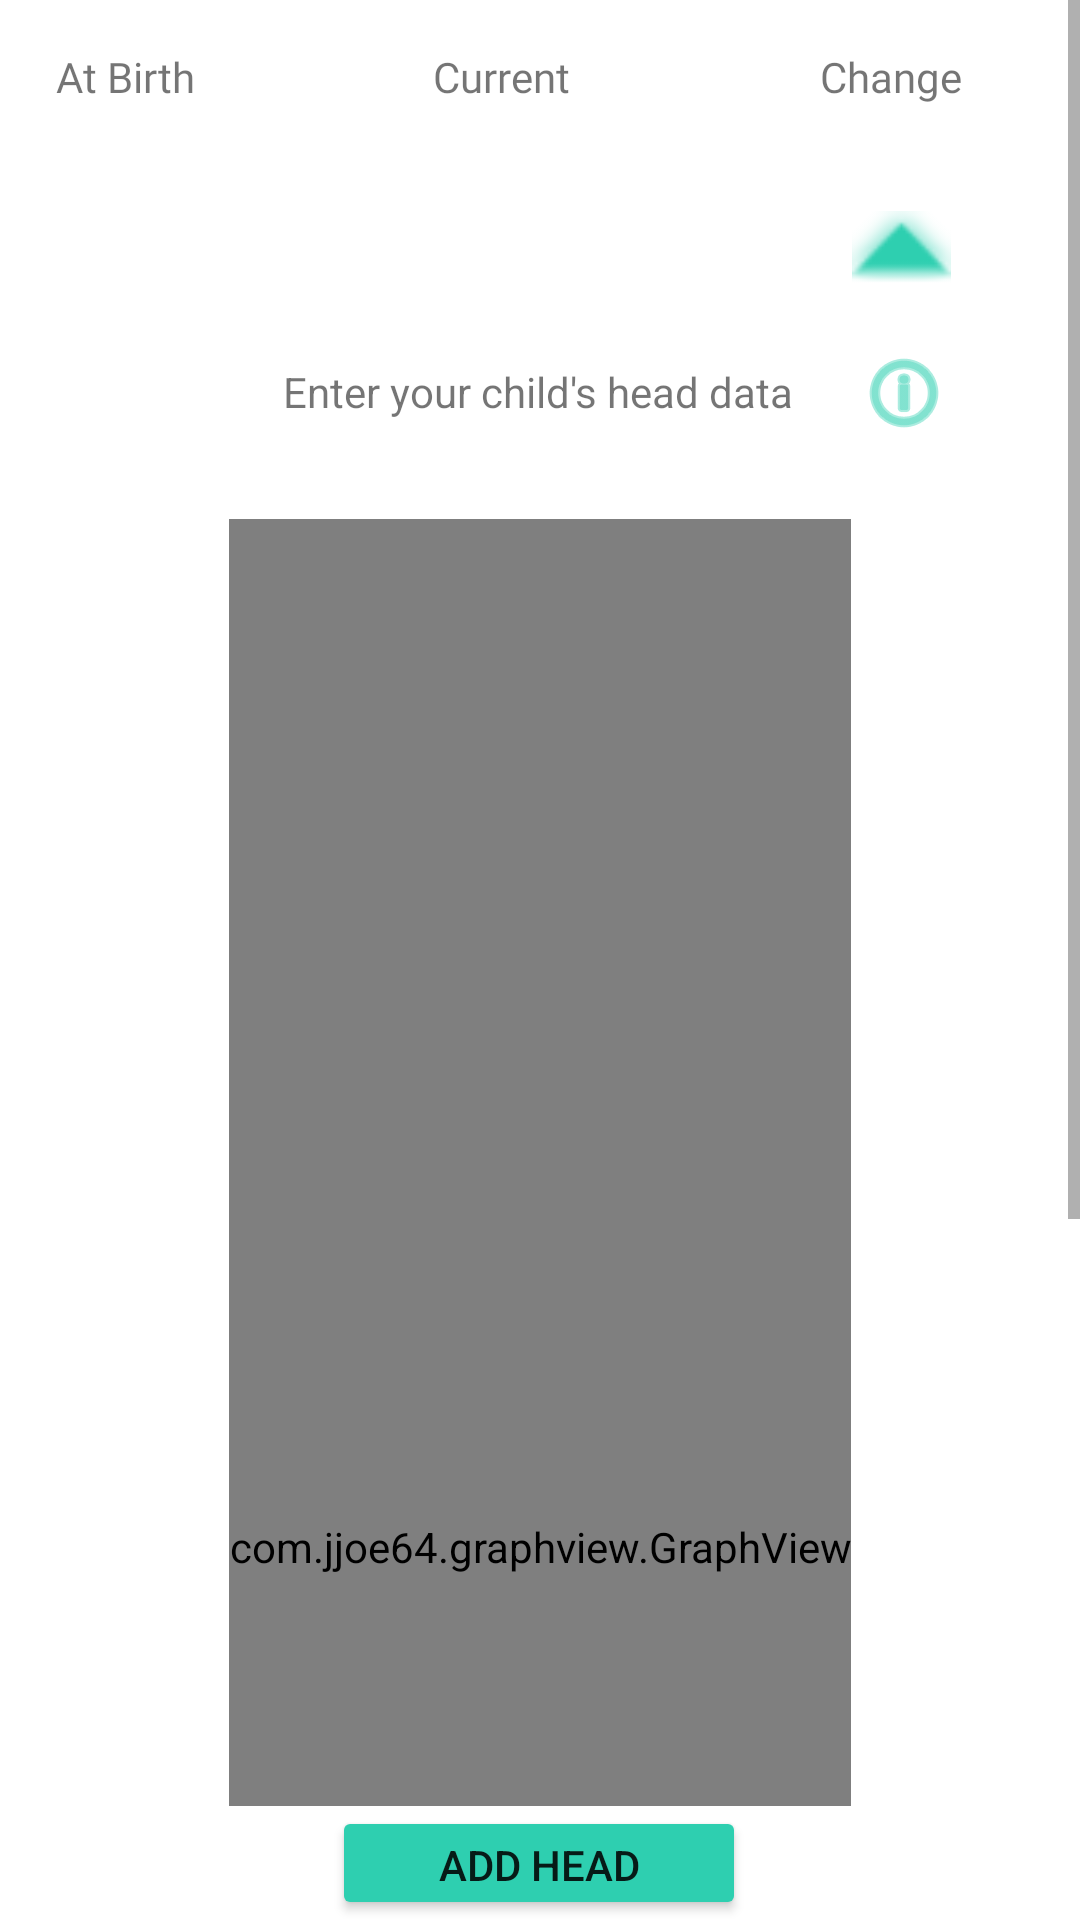

Screen size 1080×1920. Icon name, then its center in pixels as [x,y]:
arrow up float: [901,247]
info details: [904,393]
